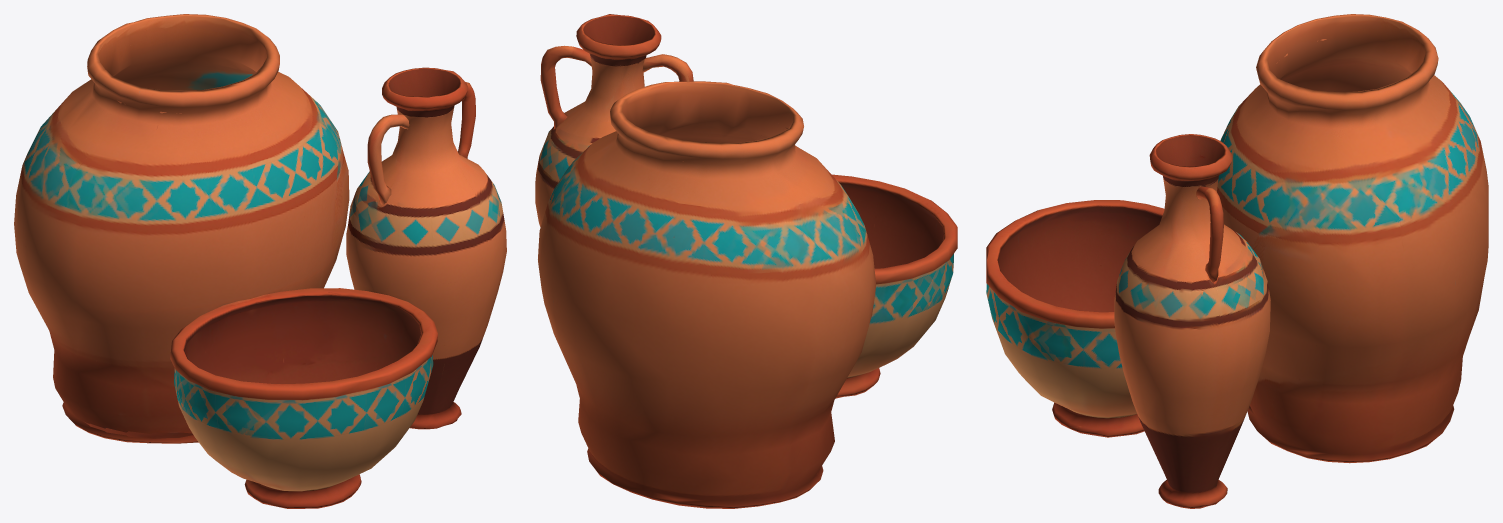
Rendered from ground_dressing.glb.
3 renders of one model, left to right at view 1: azimuth 30°, elevation 25°; view 2: azimuth 150°, elevation 25°; view 3: azimuth 270°, elevation 25°, orthographic. The views are drawn at different scales.
Size of the model in its own units: 0.9219 by 0.7949 by 1.
1 material, 1 textured.
